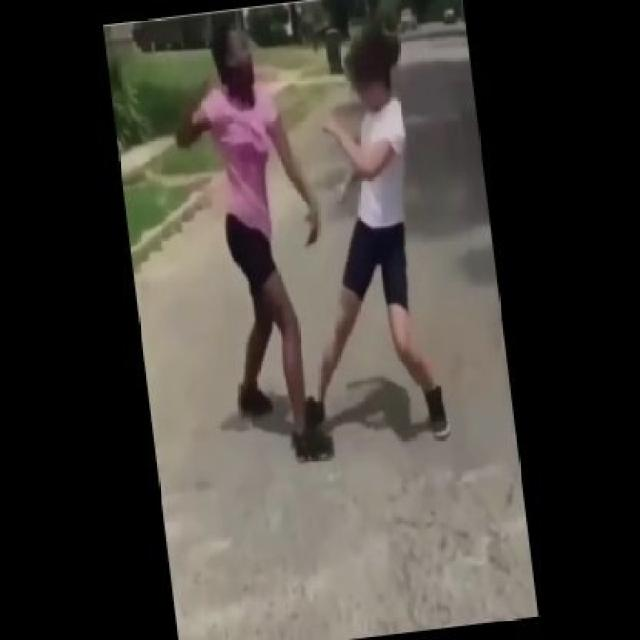fight: (173, 23, 337, 460), (302, 26, 453, 436)
